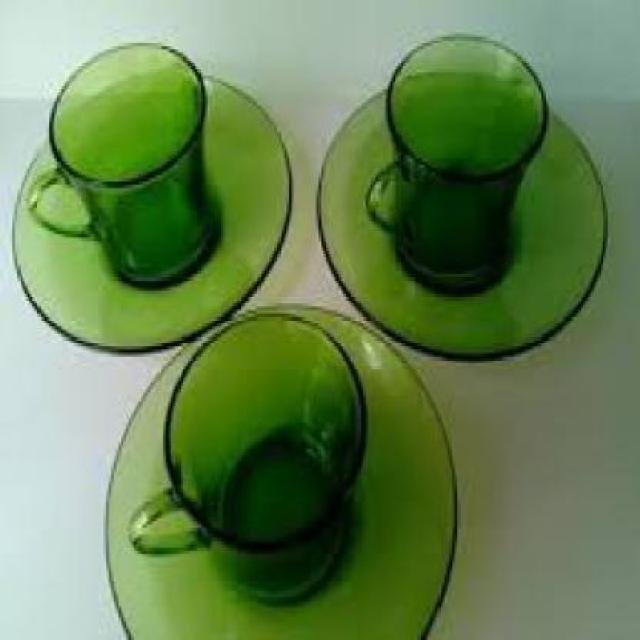kaca: (101, 303, 454, 637), (314, 69, 603, 357), (9, 73, 289, 350), (123, 311, 366, 594), (362, 31, 544, 284), (25, 40, 203, 274)
